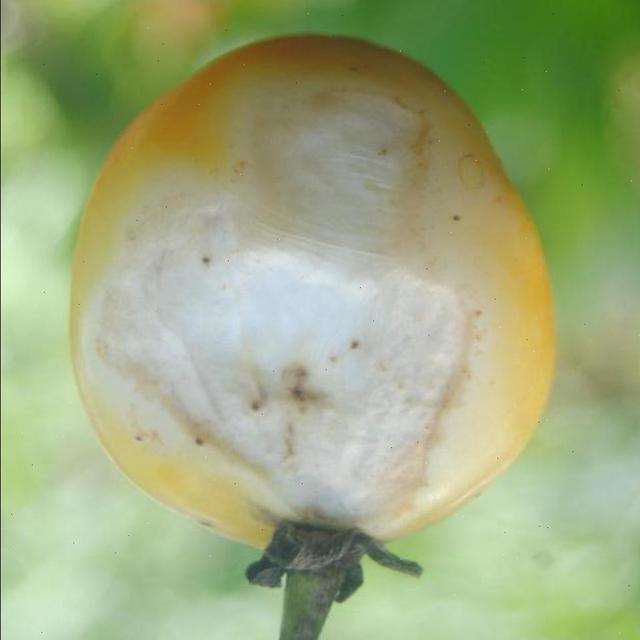Sunscald Fruit: (52, 59, 318, 355)
